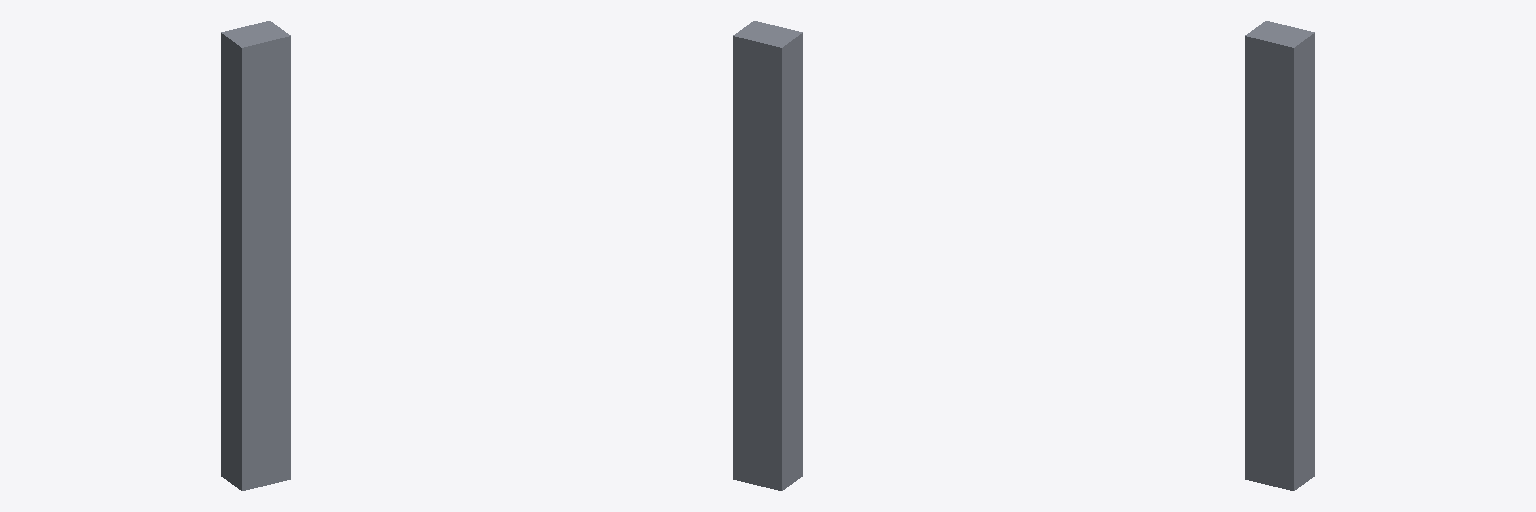
robot.urdf — artmanip_knife_000:
<?xml version='1.0' encoding='utf-8'?>
<robot name="artmanip_knife_000"><link name="link_0"><inertial><mass value="0.029171764142936162" /><inertia ixx="4.647012523757076e-05" iyy="4.6746584164916244e-05" izz="9.609083938044041e-07" ixy="0" ixz="0" iyz="0" /></inertial><visual><geometry><box size="0.01595304533859403 0.011864924336756816 0.1377498454866582" /></geometry><material name="link_0_color"><color rgba=".58 .60 .64 1" /></material></visual><collision><geometry><box size="0.01595304533859403 0.011864924336756816 0.1377498454866582" /></geometry></collision></link><link name="link_1"><inertial><mass value="0.006" /><inertia ixx="4.545e-07" iyy="5e-07" izz="5.45e-08" ixy="0" ixz="0" iyz="0" /></inertial><visual><geometry><mesh filename="slider-shoulder.obj" /></geometry><material name="link_1_color"><color rgba=".12 .13 .15 1" /></material></visual><collision><geometry><mesh filename="slider-shoulder.obj" /></geometry></collision></link><joint name="slider" type="prismatic"><parent link="link_0" /><child link="link_1" /><origin xyz="-0.0008853448949613751 0.007360627165106896 0.005839760930469243" /><axis xyz="0 0 1" /><limit lower="-0.03267458688196273" upper="0.017325413118037272" effort="100" velocity="1" /><dynamics damping="1000" friction="0.001" /></joint></robot>

--- Facts derived from the render (not from the file) ---
Views: 3 orthographic renders of the robot side by side, from view 1: azimuth 30°, elevation 25°; view 2: azimuth 150°, elevation 25°; view 3: azimuth 330°, elevation 25°.
Model artmanip_knife_000 with 2 links and 1 joints (1 prismatic), rooted at link_0, posed all joints at 0.
Links seen in each view (by area): view 1: link_0; view 2: link_0; view 3: link_0.
Link boxes in pixels (x1,y1,x2,y2): link_0: [221, 21, 290, 490]; link_0: [733, 21, 802, 490]; link_0: [1245, 21, 1314, 490].
Size in the robot's own frame: 0.016 by 0.0119 by 0.1377 metres.
Meshes: 1 distinct files referenced, 0 mesh visuals loaded (none loaded); not drawn: 1 (reference not matched to a file when rendering).
